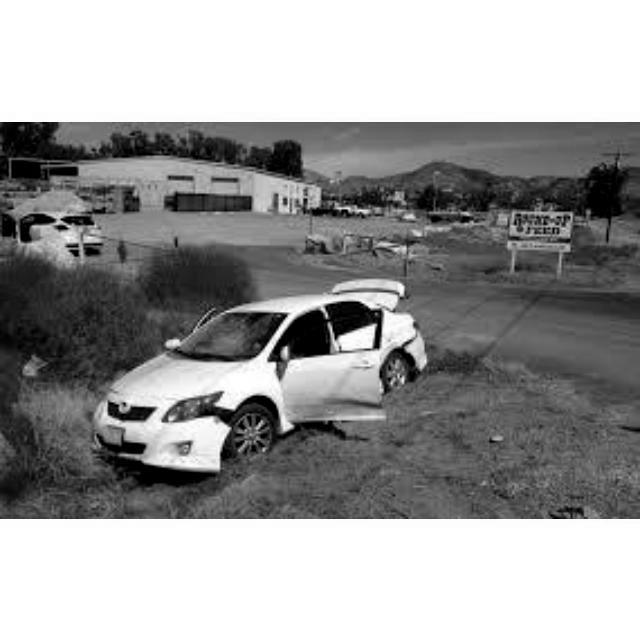front-bumper-dent: (99, 406, 220, 462)
